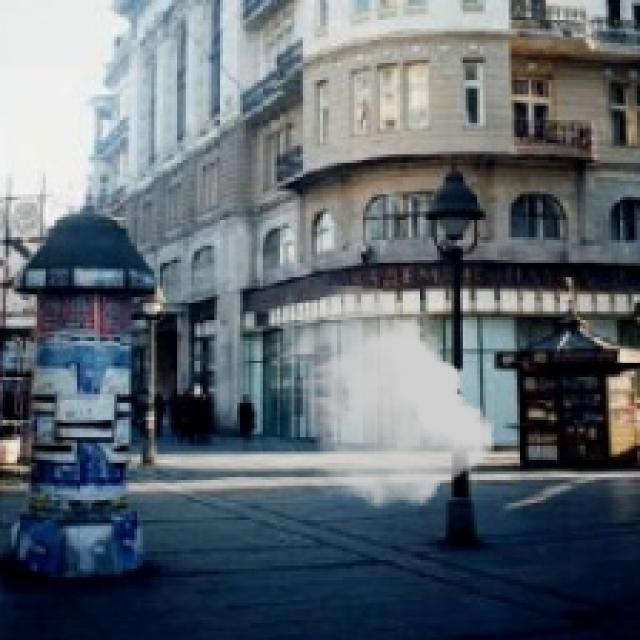smoke: (277, 286, 494, 508)
